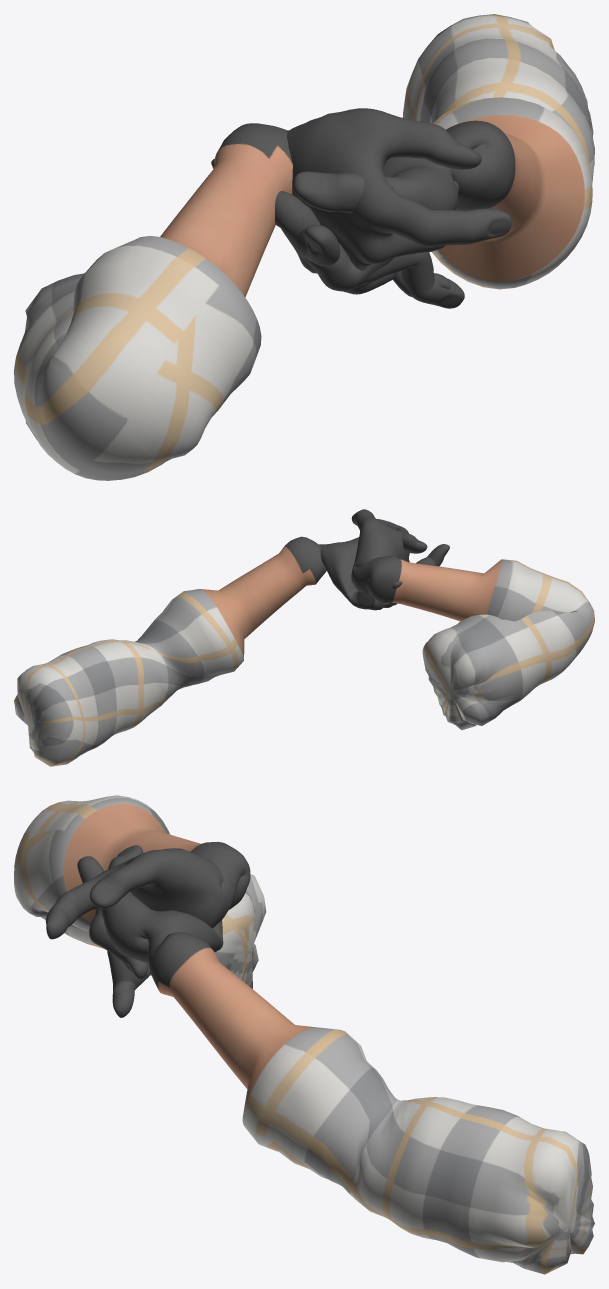
The model's file is akinci_rifle.fbx.
The picture shows the model from 3 angles, top to bottom: view 1: azimuth 30°, elevation 25°; view 2: azimuth 150°, elevation 25°; view 3: azimuth 270°, elevation 25°; orthographic projection. The views are drawn at different scales.
Parts seen in each view (by area): view 1: RightArm, LeftArm; view 2: LeftArm, RightArm; view 3: LeftArm, RightArm.
Boxes of the visible parts, x1,y1,x2,y2 form: RightArm: (14,108,511,480); LeftArm: (211,14,594,291); LeftArm: (14,533,449,766); RightArm: (351,509,594,730); LeftArm: (77,845,594,1274); RightArm: (14,795,266,1017).
Bounding box in the file's own units: 0.6155 × 0.2666 × 0.4952.
